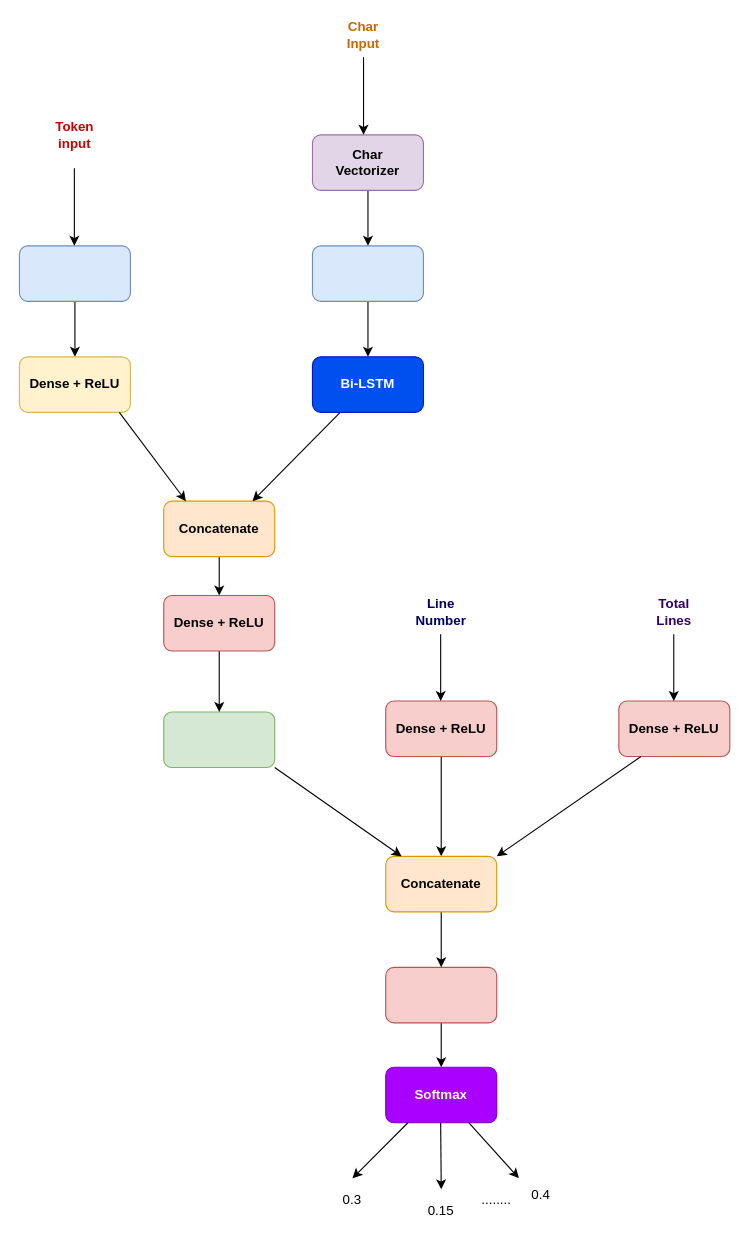
Some shapes in this 749 by 1242 pixel diagram are drawn without their labels. The shapes that lost their labels are listed below. From the top down, each one's box as (x1, y1, x2, y2) in pixels, then its label:
(18, 245, 130, 301): Token Embedding
(311, 245, 423, 301): Char Embedding
(163, 711, 275, 768): Dropout
(385, 966, 497, 1023): Dense (num_classes)
